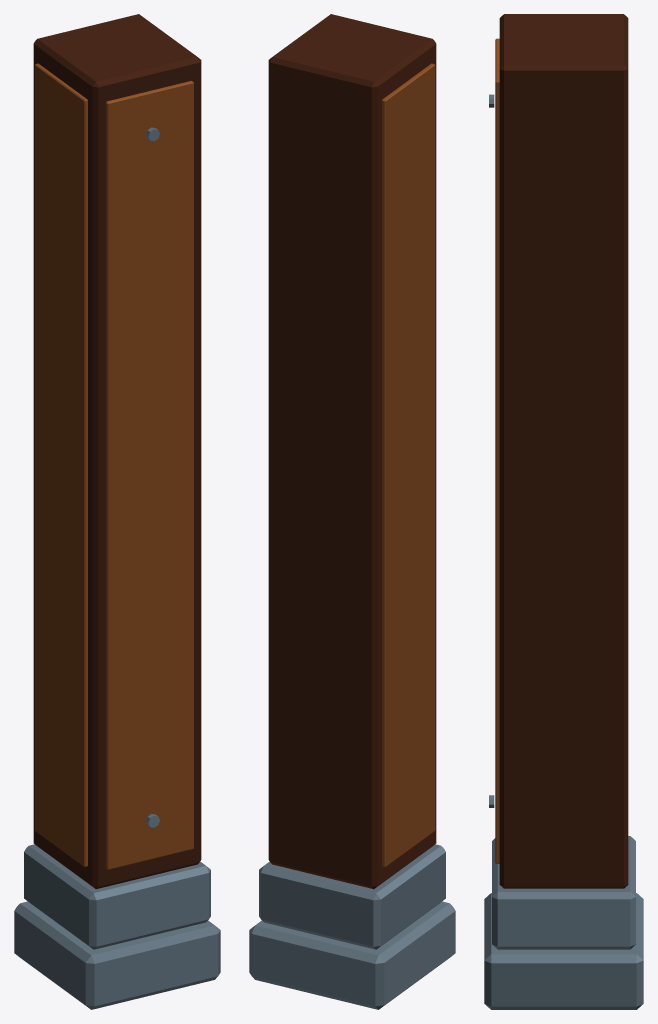
The model's file is QH_Bay_Post.fbx.
3 renders of one model, left to right at view 1: azimuth 30°, elevation 25°; view 2: azimuth 150°, elevation 25°; view 3: azimuth 270°, elevation 25°, orthographic. The views are drawn at different scales.
Parts seen in each view (by area): view 1: QH_Bay_Post; view 2: QH_Bay_Post; view 3: QH_Bay_Post.
Part boxes in pixels (x1,y1,x2,y2): QH_Bay_Post: (14, 14, 220, 1009); QH_Bay_Post: (249, 14, 455, 1009); QH_Bay_Post: (484, 14, 643, 1009).
Bounding box in the file's own units: 0.42 × 2.74 × 0.42.
